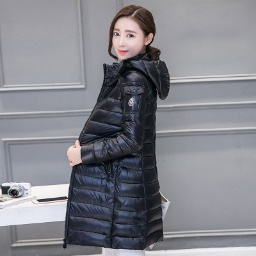face: (105, 6, 157, 61)
